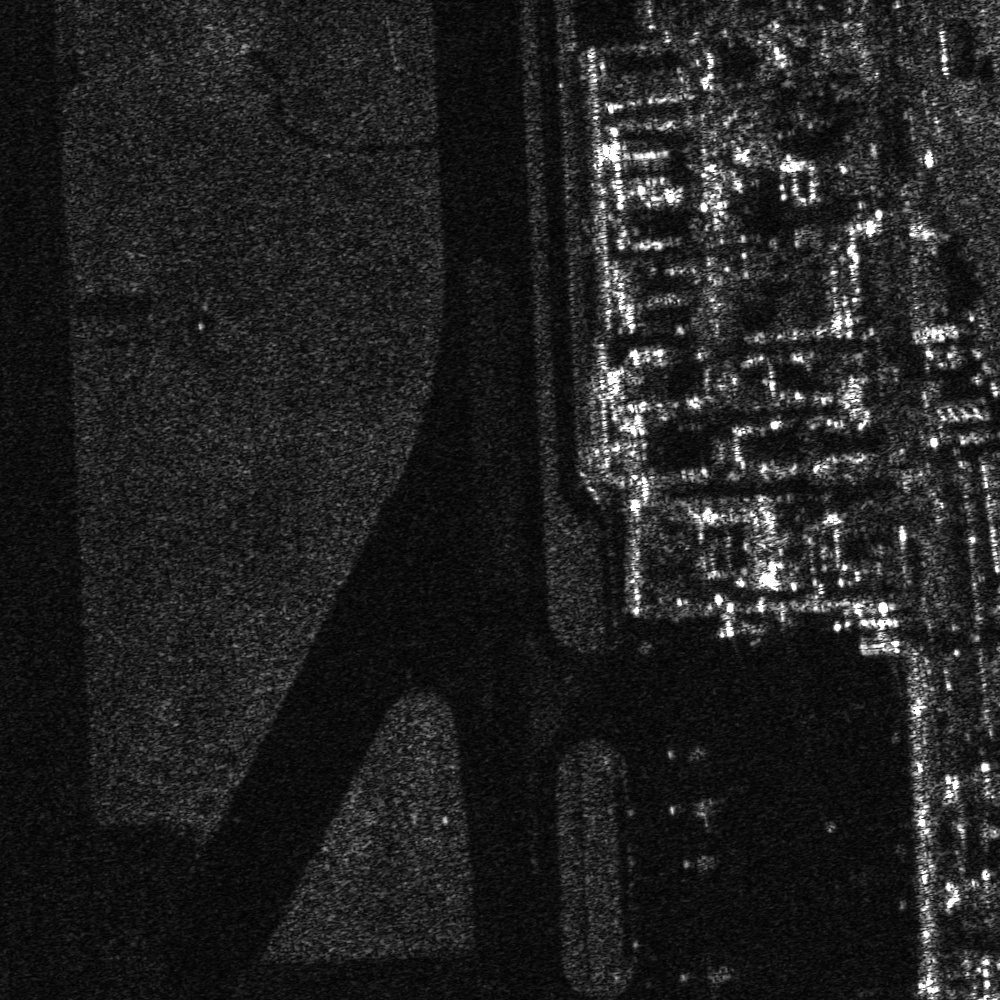ARJ21: (652, 786, 726, 832), (673, 846, 727, 878)
other: (672, 953, 737, 999), (659, 735, 713, 771)
